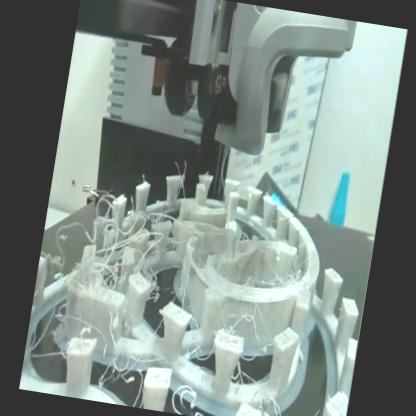fail: (27, 196, 179, 397), (216, 253, 306, 303), (184, 310, 225, 366), (169, 381, 210, 416), (264, 398, 323, 416)
